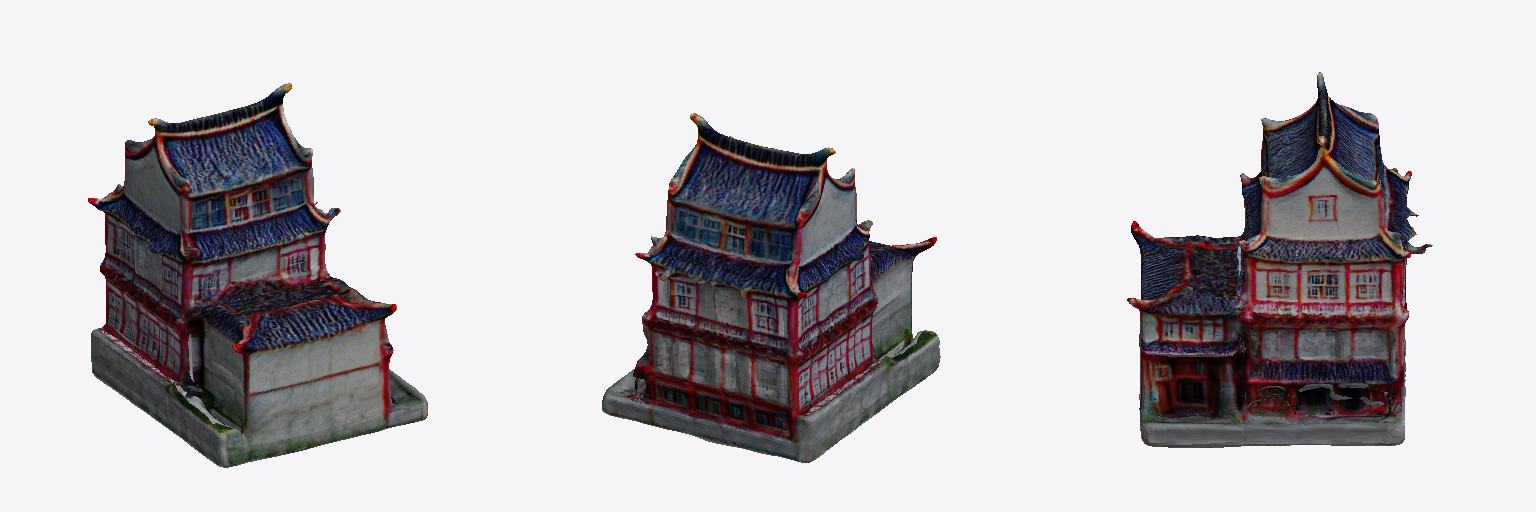
3 views of the same model, side by side, from view 1: azimuth 30°, elevation 25°; view 2: azimuth 150°, elevation 25°; view 3: azimuth 270°, elevation 25° (orthographic).
Parts seen in each view (by area): view 1: mesh; view 2: mesh; view 3: mesh.
Part boxes in pixels (x1,y1,x2,y2): mesh: (88, 83, 427, 467); mesh: (602, 113, 940, 462); mesh: (1127, 72, 1432, 447).
Size of the model in its own units: 0.7722 by 0.9969 by 0.9562.
Materials: 1 (1 with a texture image).